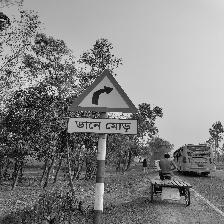Right-turn: (66, 70, 140, 135)
